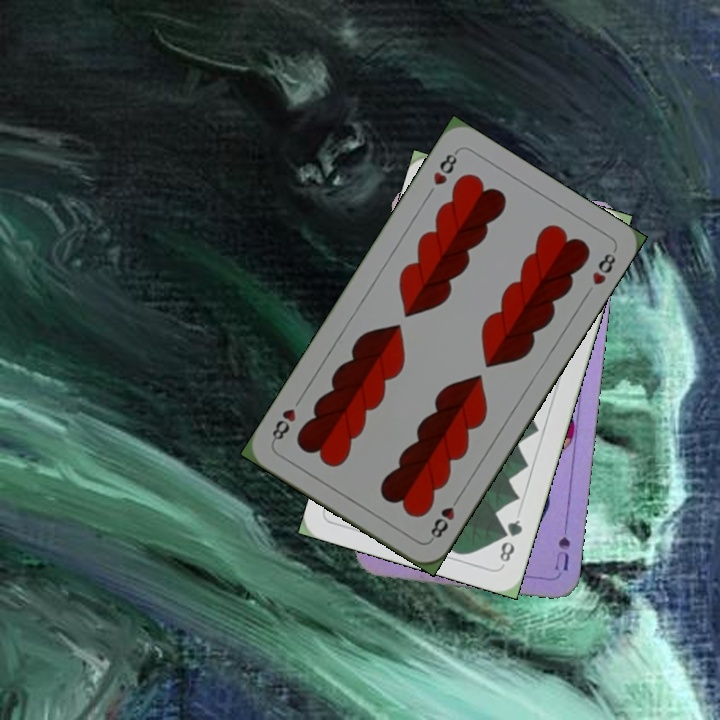G8: (495, 515, 525, 565)
H8: (426, 491, 463, 544), (429, 146, 461, 188)
SU: (550, 514, 573, 573)
